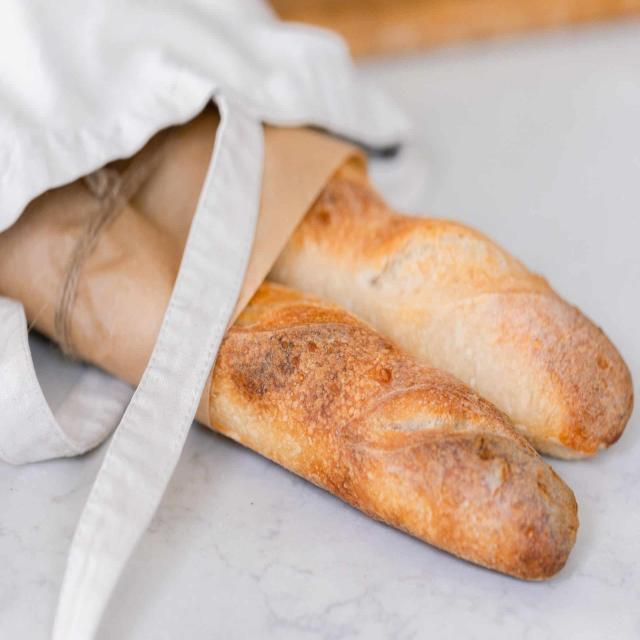Baguette: (267, 158, 633, 460), (209, 284, 578, 579)
